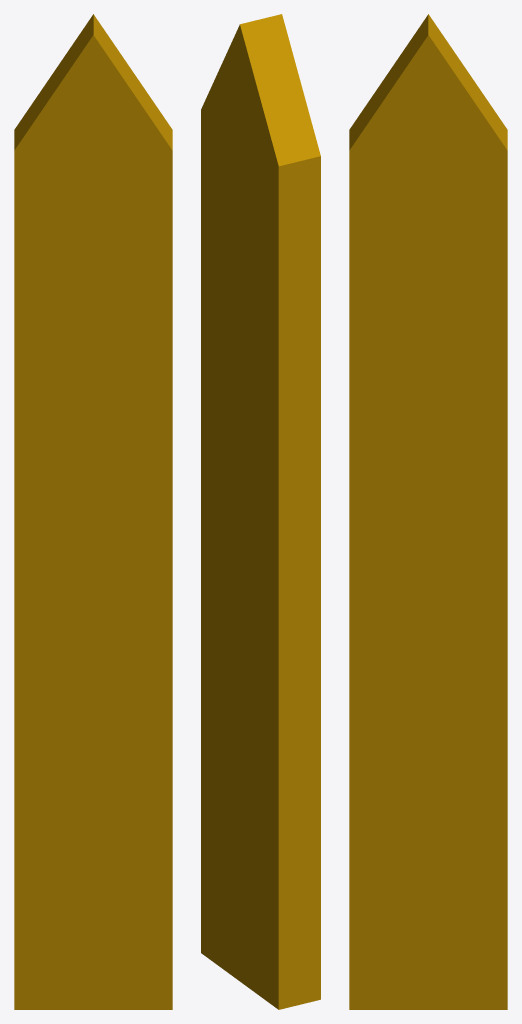
File: Fence1.fbx
3 views of the same model, side by side, from view 1: azimuth 90°, elevation 25°; view 2: azimuth 210°, elevation 25°; view 3: azimuth 270°, elevation 25° (orthographic).
Visible parts, largest first — view 1: Group1; view 2: Group1; view 3: Group1.
Part boxes in pixels (x1,y1,x2,y2): Group1: (14, 14, 172, 1009); Group1: (201, 14, 320, 1009); Group1: (349, 14, 507, 1009).
Size of the model in its own units: 1.62 by 35.25 by 5.19.
